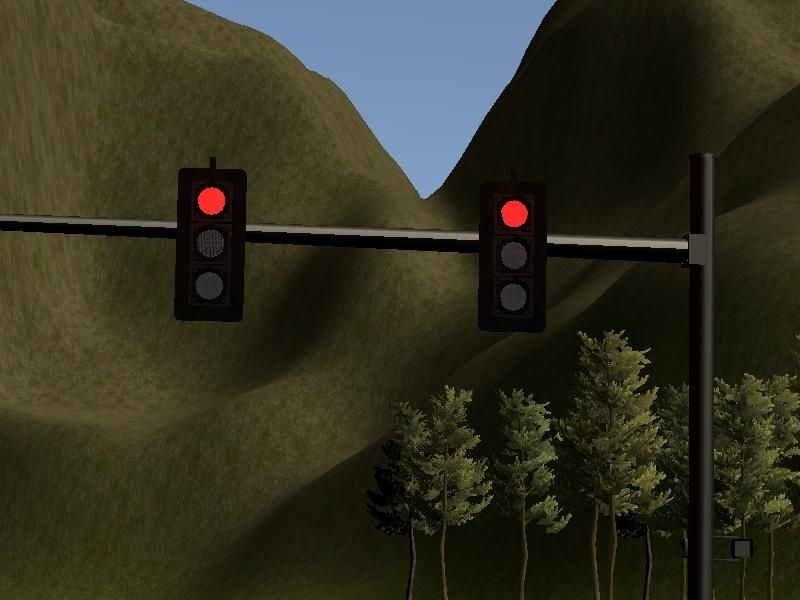red: (173, 164, 247, 327), (476, 178, 549, 336)
